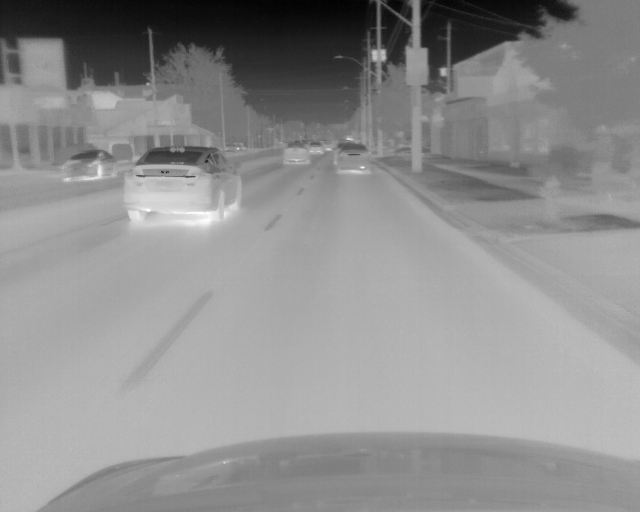car: (123, 146, 243, 227), (60, 151, 120, 183), (336, 143, 372, 175), (282, 142, 309, 166), (309, 141, 322, 155), (322, 140, 332, 152)
people: (587, 122, 616, 202)
